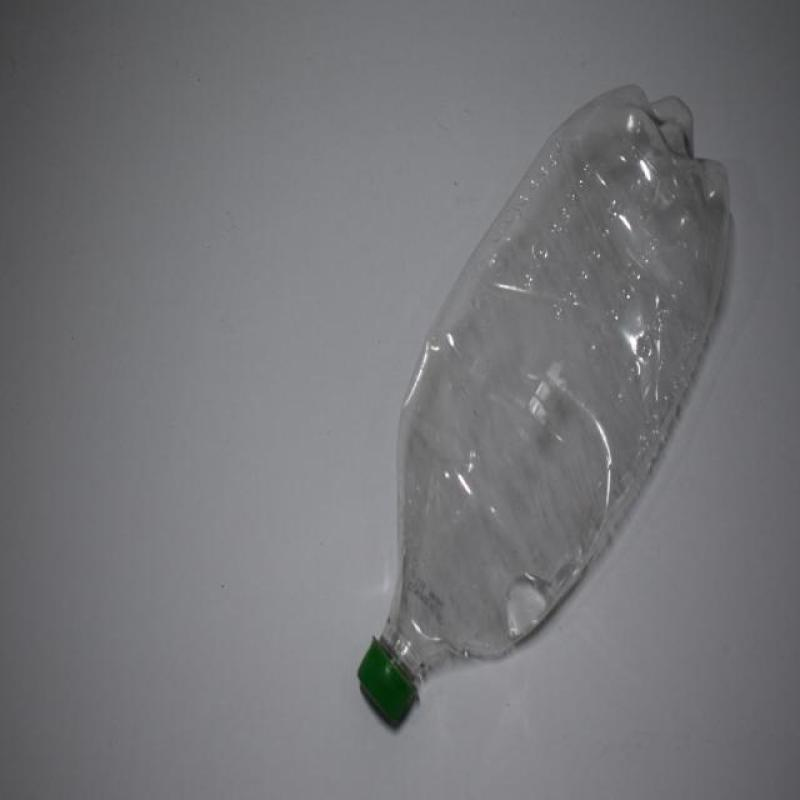botella: (356, 88, 728, 728)
